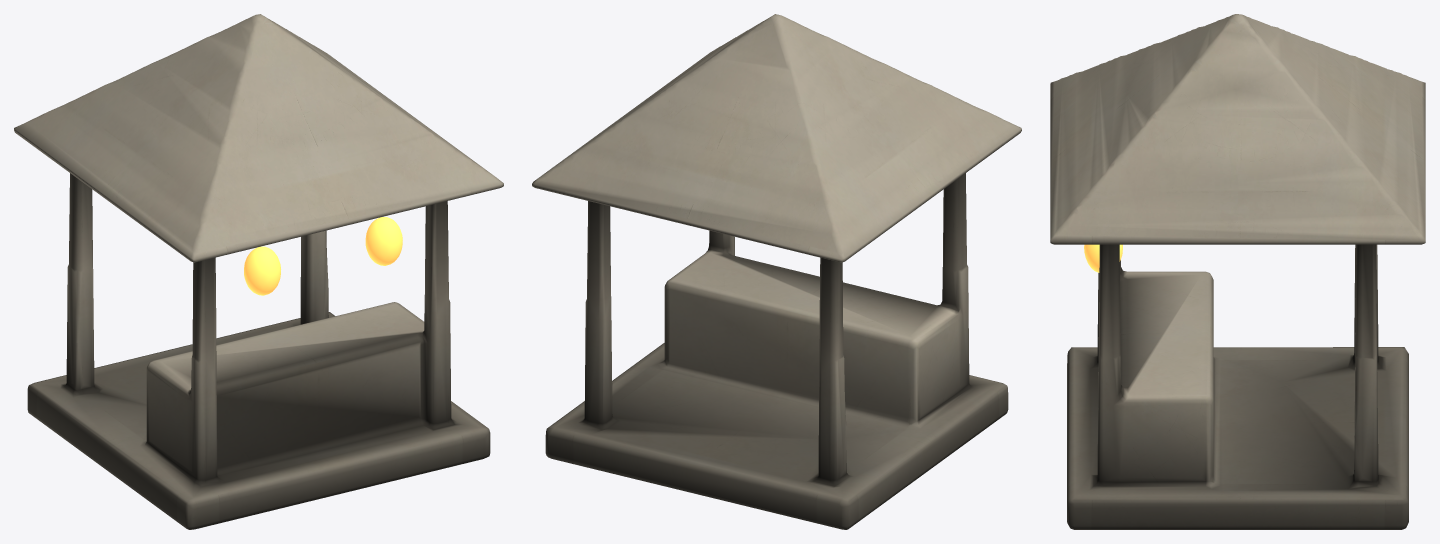
Rendered from lampwright_stall.glb.
3 views of the same model, side by side, from view 1: azimuth 30°, elevation 25°; view 2: azimuth 150°, elevation 25°; view 3: azimuth 270°, elevation 25° (orthographic). The views are drawn at different scales.
Visible parts, largest first — view 1: lampwright_stall_chalk, lampwright_stall_resin; view 2: lampwright_stall_chalk; view 3: lampwright_stall_chalk.
Boxes of the visible parts, bbox=[...] form: lampwright_stall_chalk: bbox=[14, 14, 503, 529]; lampwright_stall_resin: bbox=[244, 217, 402, 295]; lampwright_stall_chalk: bbox=[532, 14, 1021, 529]; lampwright_stall_chalk: bbox=[1050, 14, 1425, 529].
Bounding box in the file's own units: 3.07 × 3.97 × 3.07.
2 materials, 1 textured.
